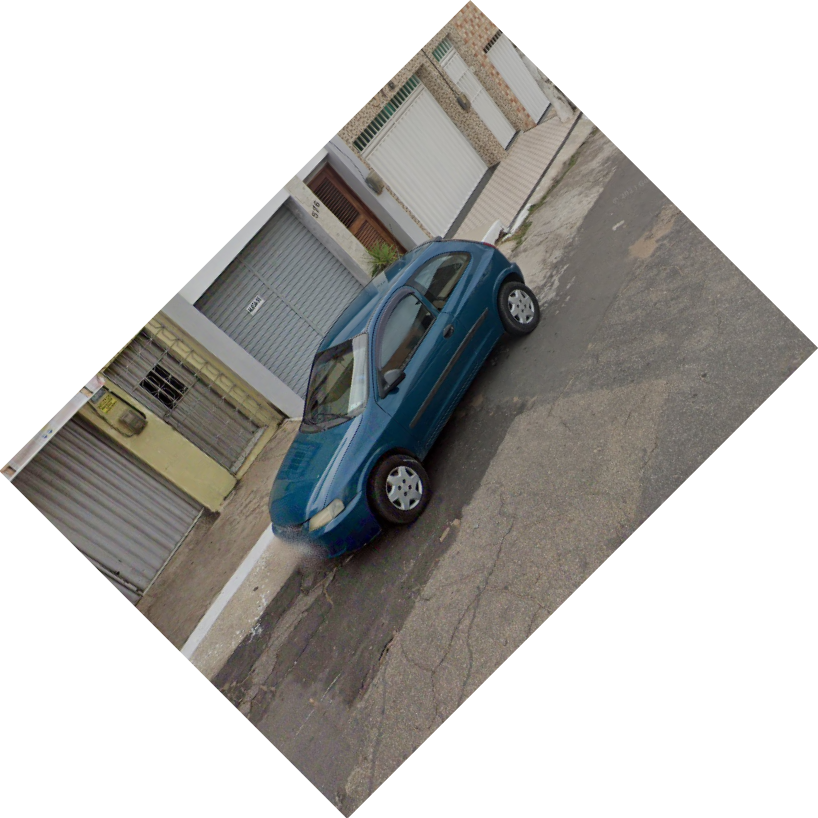car: (264, 231, 548, 569)
